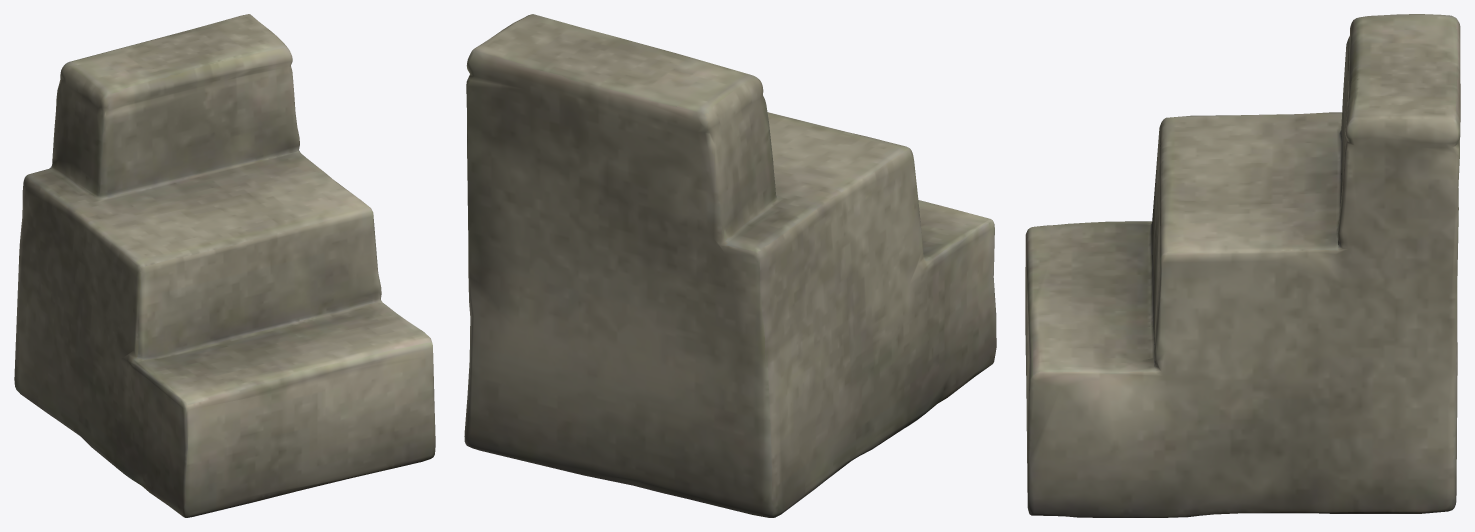
Rendered from worn-limestone-steps-v001.glb.
The picture shows the model from 3 angles, left to right: view 1: azimuth 30°, elevation 25°; view 2: azimuth 150°, elevation 25°; view 3: azimuth 270°, elevation 25°; orthographic projection. The views are drawn at different scales.
Visible parts, largest first — view 1: worn-limestone-steps; view 2: worn-limestone-steps; view 3: worn-limestone-steps.
Boxes of the visible parts, <box> form: worn-limestone-steps: <box>14,14,435,517</box>; worn-limestone-steps: <box>464,14,996,517</box>; worn-limestone-steps: <box>1025,14,1460,517</box>.
Size of the model in its own units: 0.5455 by 0.6651 by 0.6647.
Materials: 1 (1 with a texture image).
